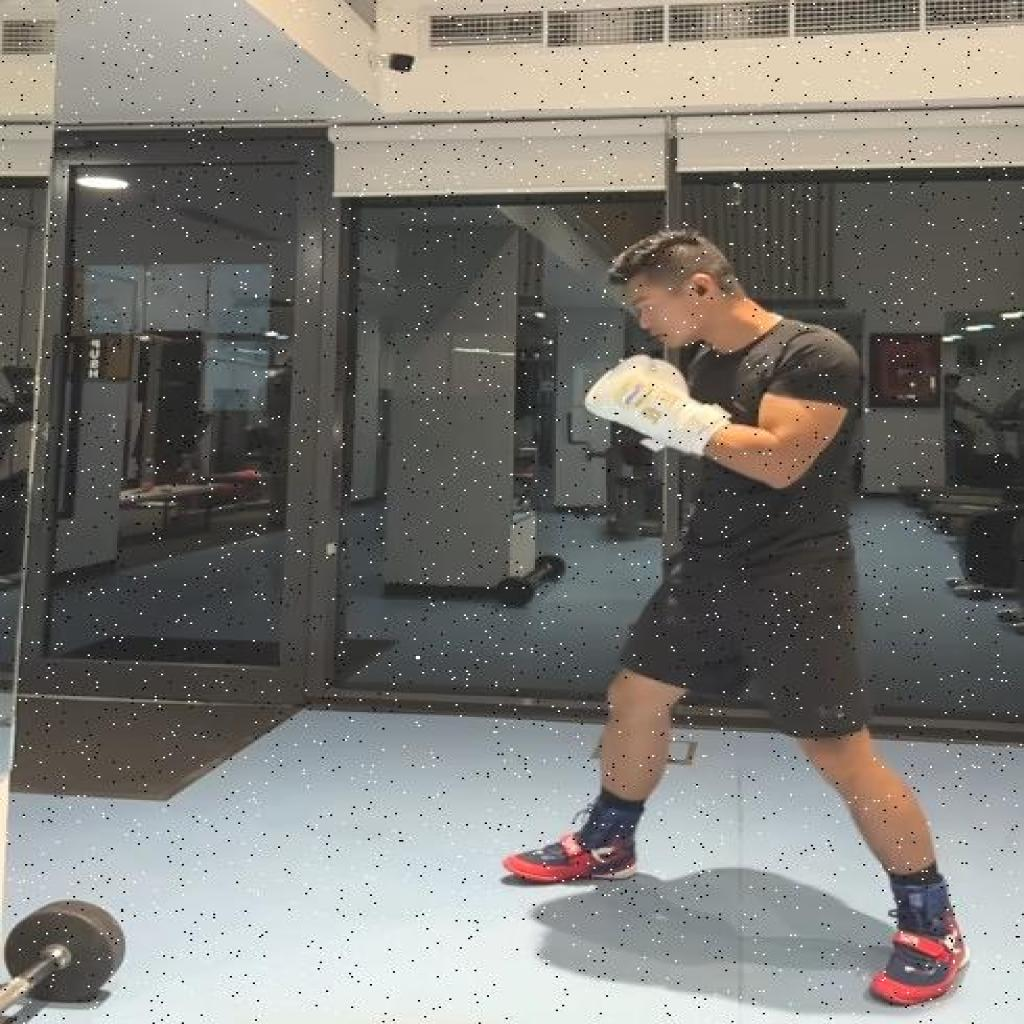no punch: (499, 227, 974, 1010)
